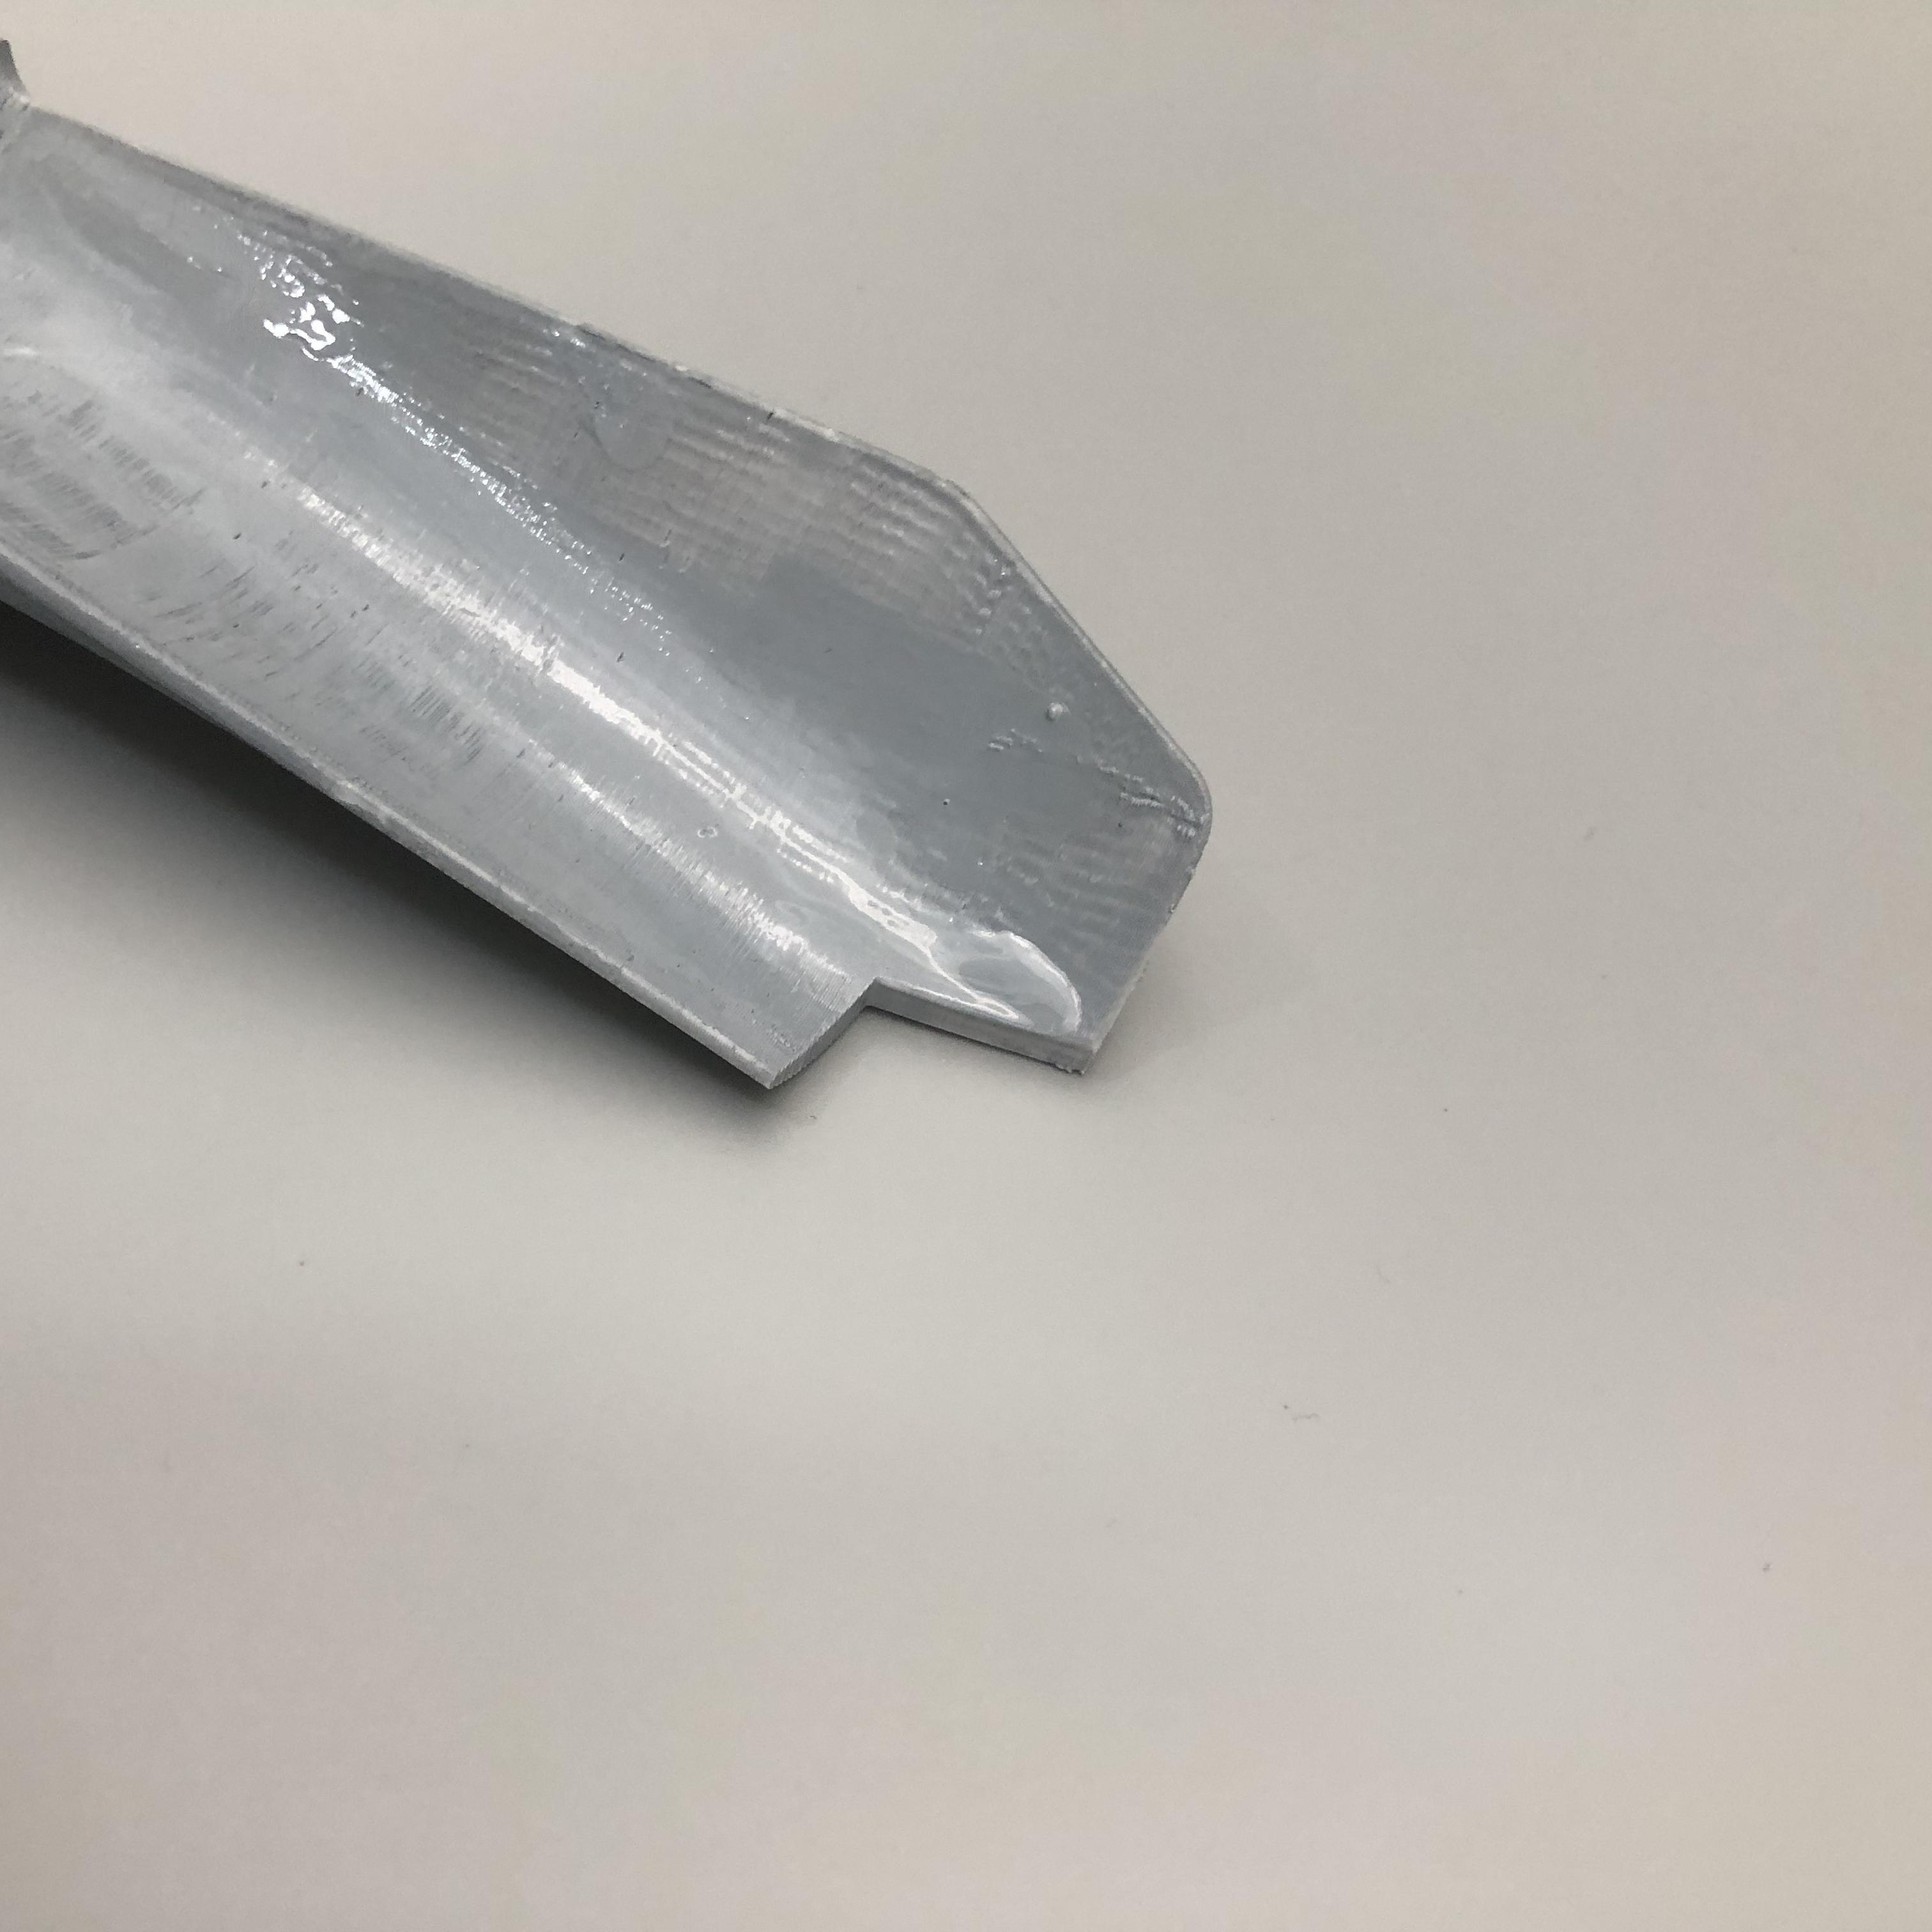fracture: (770, 971, 1081, 1104)
